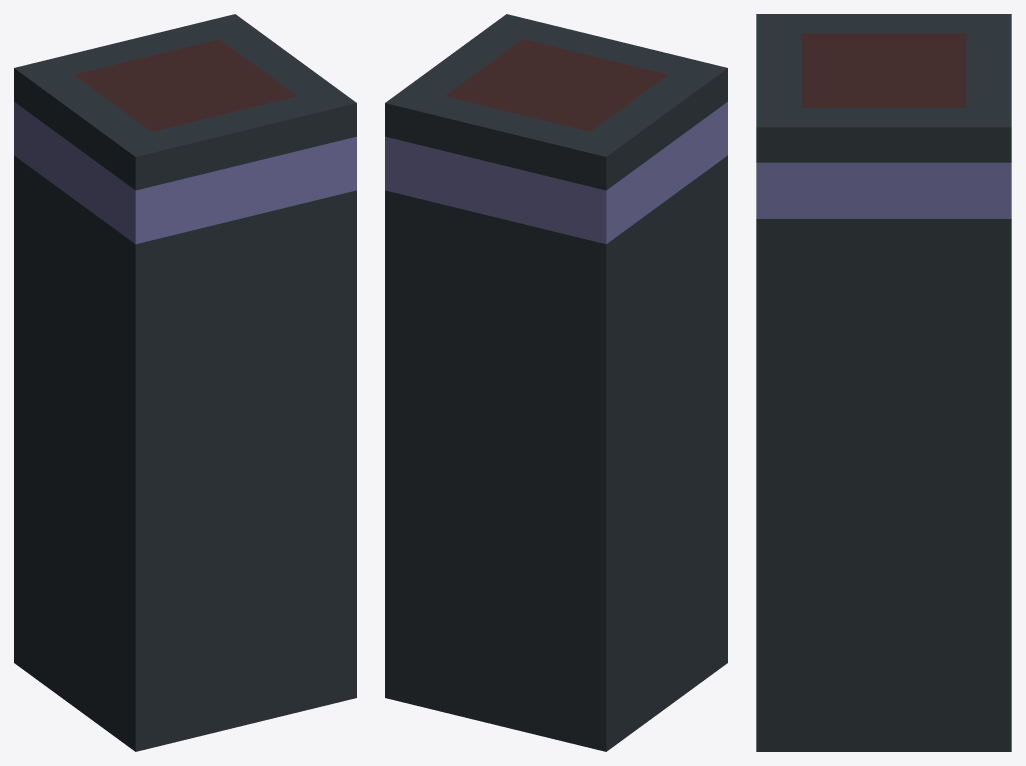
Rendered from column2.FBX.
The picture shows the model from 3 angles, left to right: view 1: azimuth 30°, elevation 25°; view 2: azimuth 150°, elevation 25°; view 3: azimuth 270°, elevation 25°; orthographic projection. The views are drawn at different scales.
Parts seen in each view (by area): view 1: column2; view 2: column2; view 3: column2.
Boxes of the visible parts, <box> form: column2: <box>14,14,356,751</box>; column2: <box>385,14,727,751</box>; column2: <box>756,14,1011,751</box>.
Bounding box in the file's own units: 1.18 × 3.03 × 1.12.
